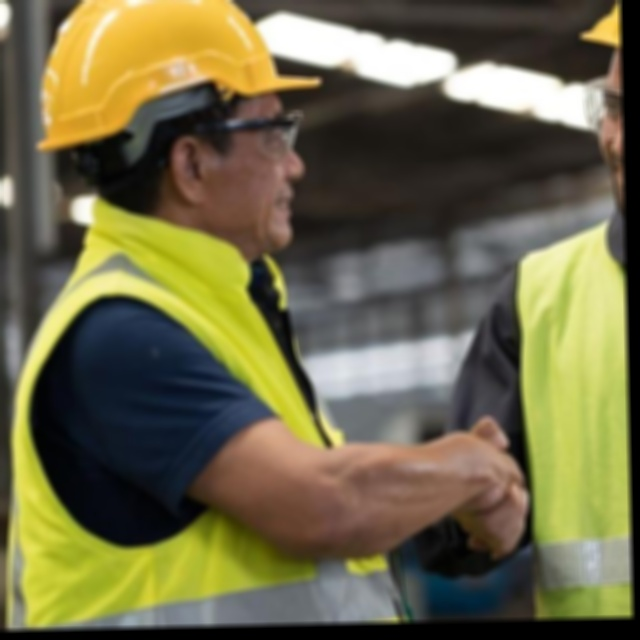Con_Casco: (37, 0, 325, 259)
Con_Chaleco: (2, 219, 363, 630)
